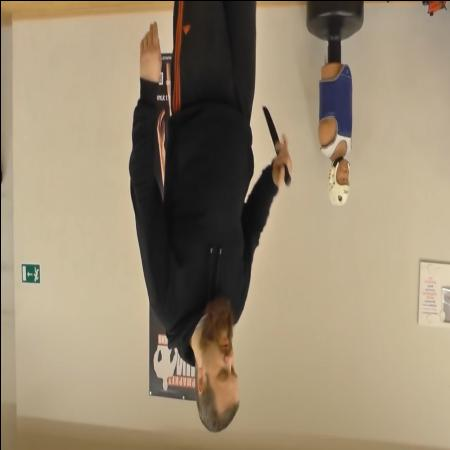long weapon: (260, 100, 292, 189)
